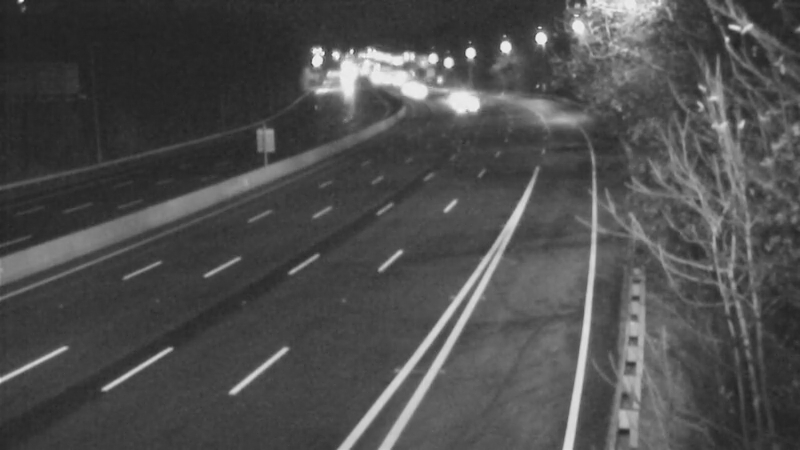vehicle: (379, 62, 429, 112), (391, 69, 441, 119), (430, 70, 480, 120), (438, 82, 488, 132)
